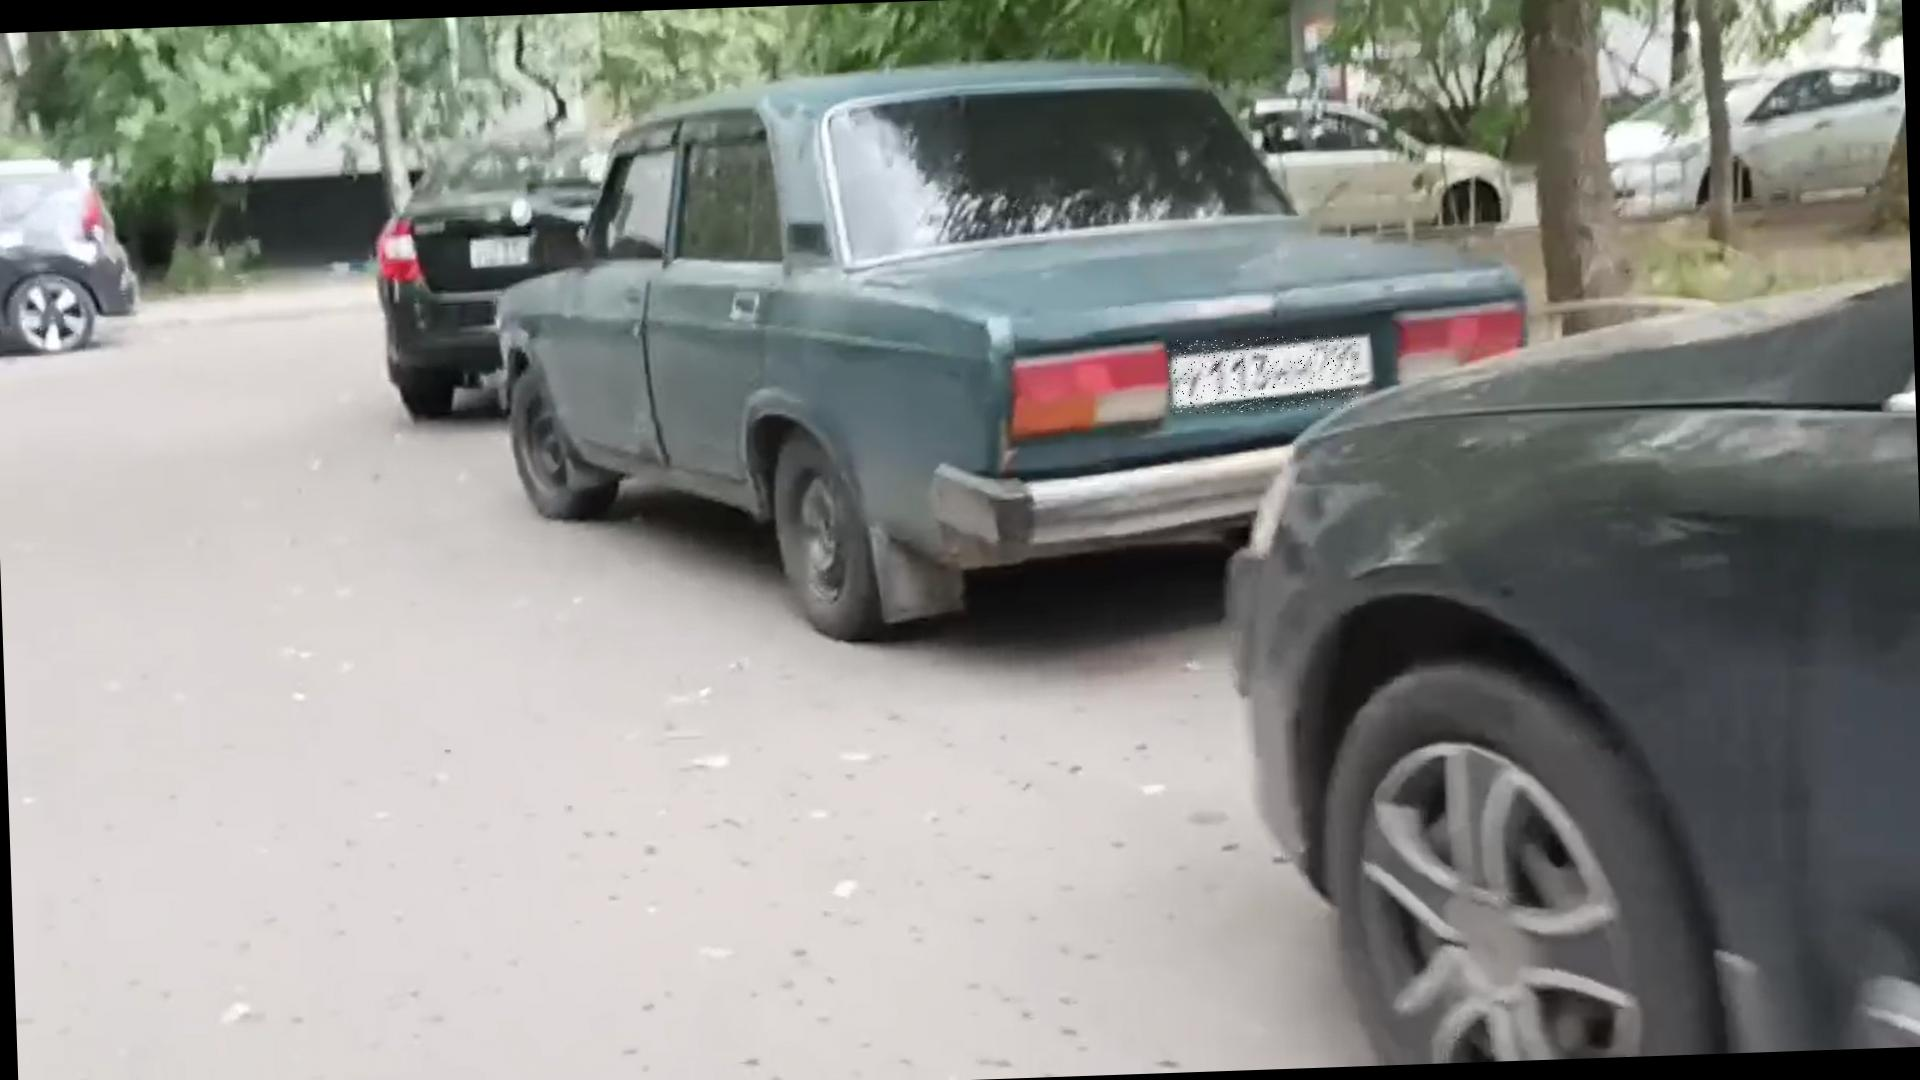plate: (1169, 336, 1362, 416)
